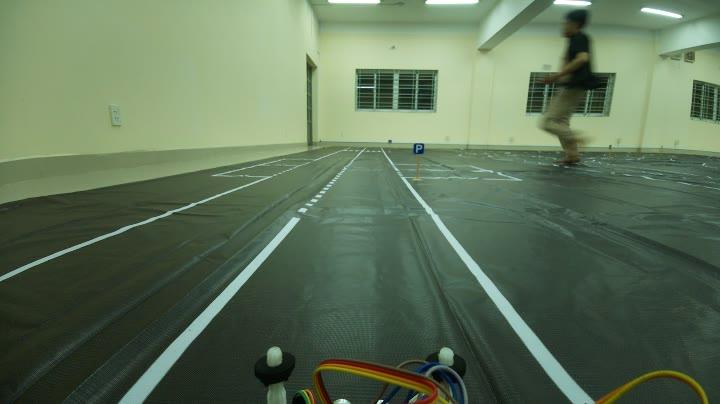parking: (409, 138, 430, 162)
